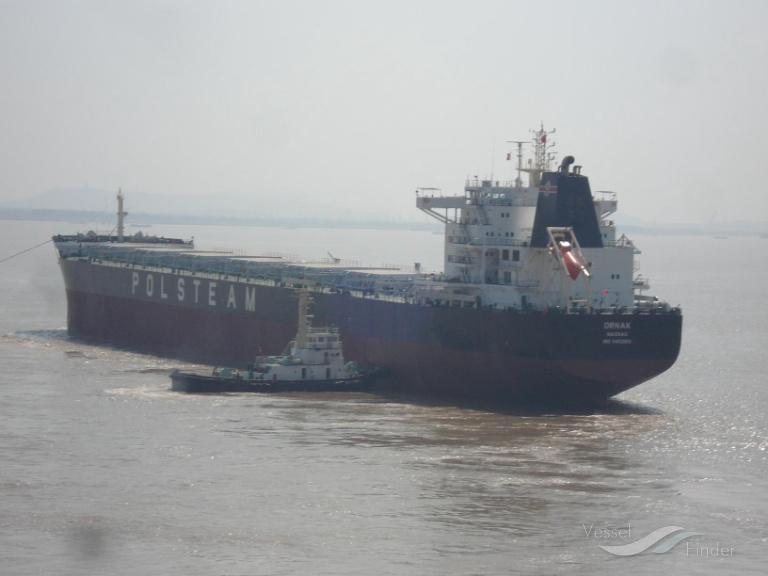OCR: (127, 266, 259, 322), (593, 315, 633, 354)
